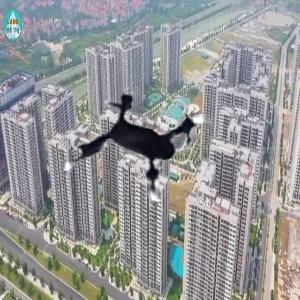drone: (52, 67, 231, 246)
